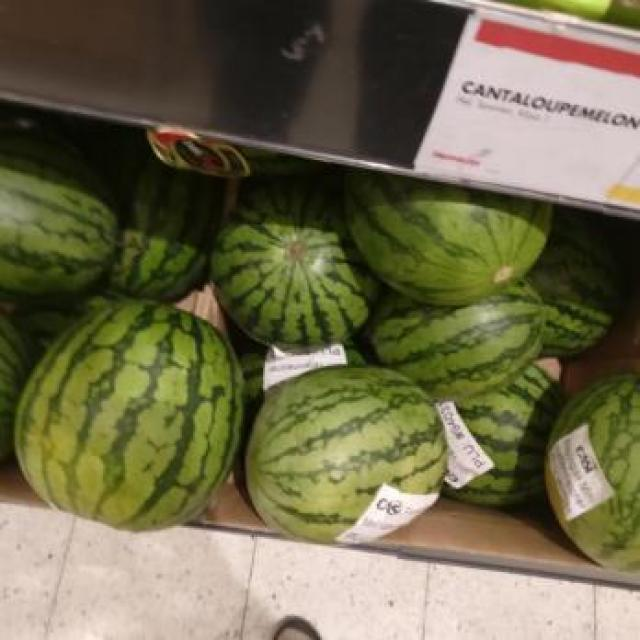Watermelon: (18, 294, 246, 539), (243, 359, 447, 550), (210, 169, 388, 355)
